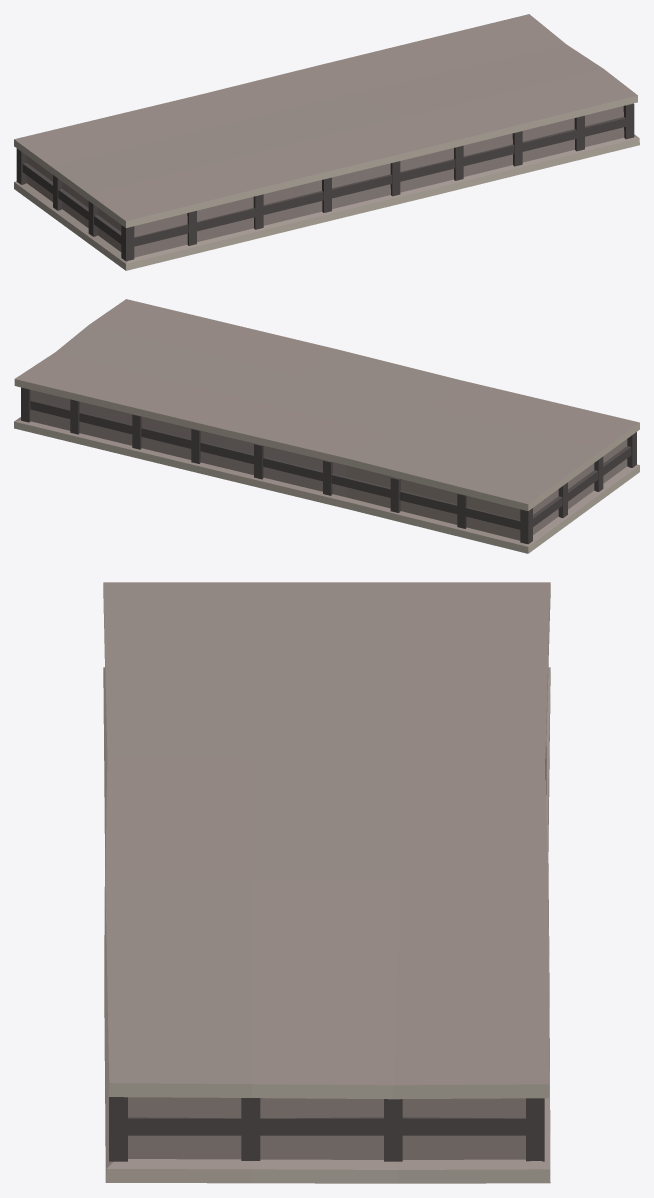
The model's file is Greek_Floor_BigAndWide.fbx.
The picture shows the model from 3 angles, top to bottom: view 1: azimuth 30°, elevation 25°; view 2: azimuth 150°, elevation 25°; view 3: azimuth 270°, elevation 25°; orthographic projection. The views are drawn at different scales.
Parts seen in each view (by area): view 1: Greek_Floor_BigAndWide; view 2: Greek_Floor_BigAndWide; view 3: Greek_Floor_BigAndWide.
Boxes of the visible parts, <box> form: Greek_Floor_BigAndWide: <box>14,14,639,270</box>; Greek_Floor_BigAndWide: <box>14,299,639,553</box>; Greek_Floor_BigAndWide: <box>103,582,550,1183</box>.
Size of the model in its own units: 345 by 130 by 32.53.
